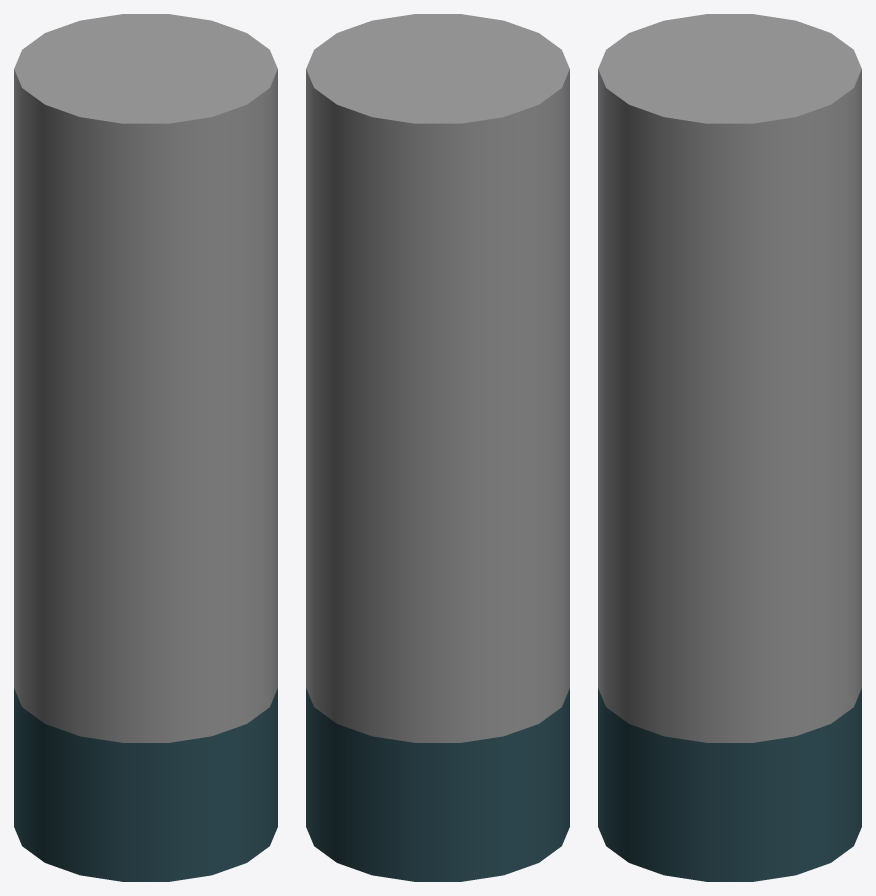
The model's file is PilarAzulejo.fbx.
The picture shows the model from 3 angles, left to right: view 1: azimuth 30°, elevation 25°; view 2: azimuth 150°, elevation 25°; view 3: azimuth 270°, elevation 25°; orthographic projection.
Visible parts, largest first — view 1: PilarAzulejo; view 2: PilarAzulejo; view 3: PilarAzulejo.
Boxes of the visible parts, x1,y1,x2,y2 form: PilarAzulejo: (14, 14, 277, 881); PilarAzulejo: (306, 14, 569, 881); PilarAzulejo: (598, 14, 861, 881).
Bounding box in the file's own units: 194 × 626 × 197.
